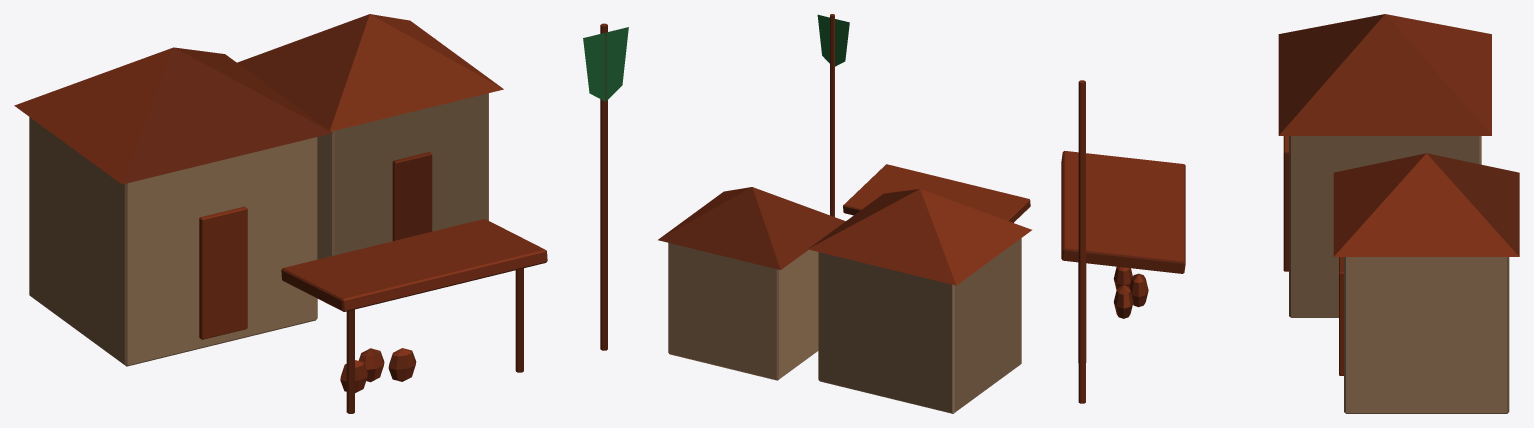
File: edificio-b_015-e3-d177gCYk.glb
3 renders of one model, left to right at view 1: azimuth 30°, elevation 25°; view 2: azimuth 150°, elevation 25°; view 3: azimuth 270°, elevation 25°, orthographic. The views are drawn at different scales.
Parts seen in each view (by area): view 1: edificio_b_015_e3_detalles, edificio_b_015_e3_envolvente, edificio_b_015_e3_team_color; view 2: edificio_b_015_e3_envolvente, edificio_b_015_e3_detalles, edificio_b_015_e3_team_color; view 3: edificio_b_015_e3_detalles, edificio_b_015_e3_envolvente.
Boxes of the visible parts, left/top/right/bottom form: edificio_b_015_e3_detalles: left=14, top=14, right=607, bottom=413; edificio_b_015_e3_envolvente: left=29, top=93, right=488, bottom=366; edificio_b_015_e3_team_color: left=583, top=27, right=628, bottom=101; edificio_b_015_e3_envolvente: left=668, top=238, right=1021, bottom=413; edificio_b_015_e3_detalles: left=658, top=14, right=1031, bottom=285; edificio_b_015_e3_team_color: left=817, top=14, right=849, bottom=66; edificio_b_015_e3_detalles: left=1061, top=14, right=1519, bottom=403; edificio_b_015_e3_envolvente: left=1289, top=136, right=1509, bottom=413.
Size of the model in its own units: 34 by 26 by 33.26.
Materials: 3 (3 with a texture image).
